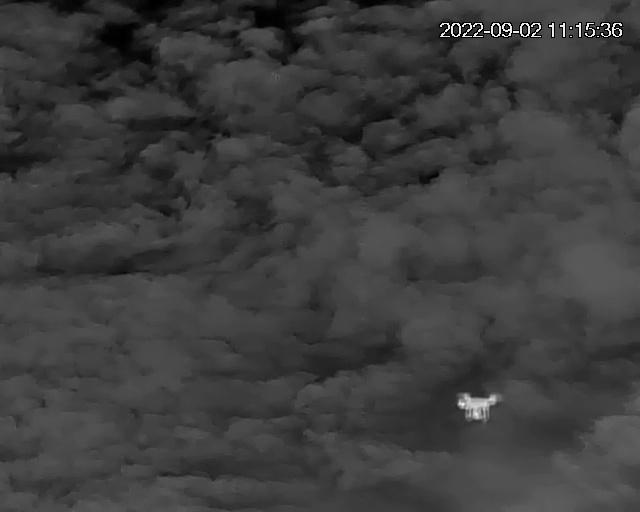DJI-Phantom: (456, 390, 504, 426)
